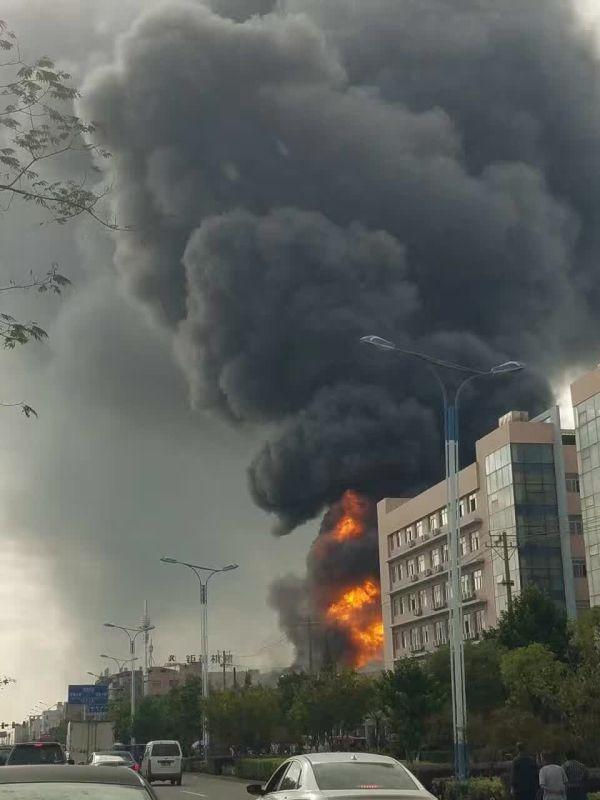fire: (323, 578, 392, 673), (321, 483, 359, 540)
